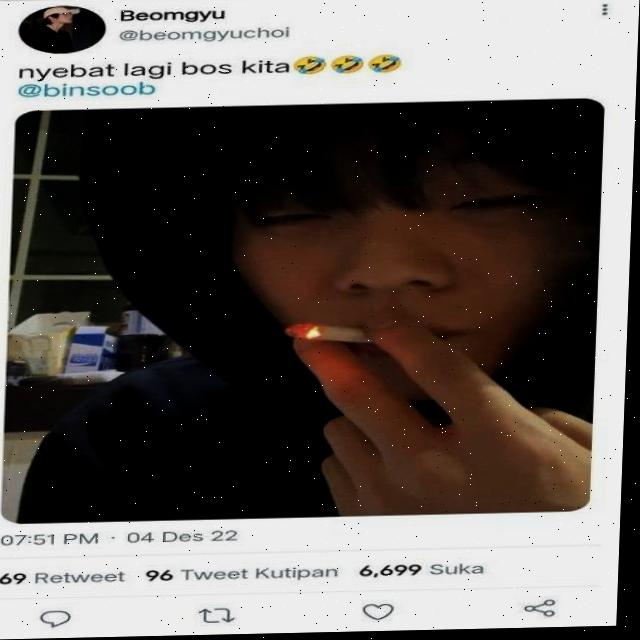cigarette: (292, 323, 376, 347)
